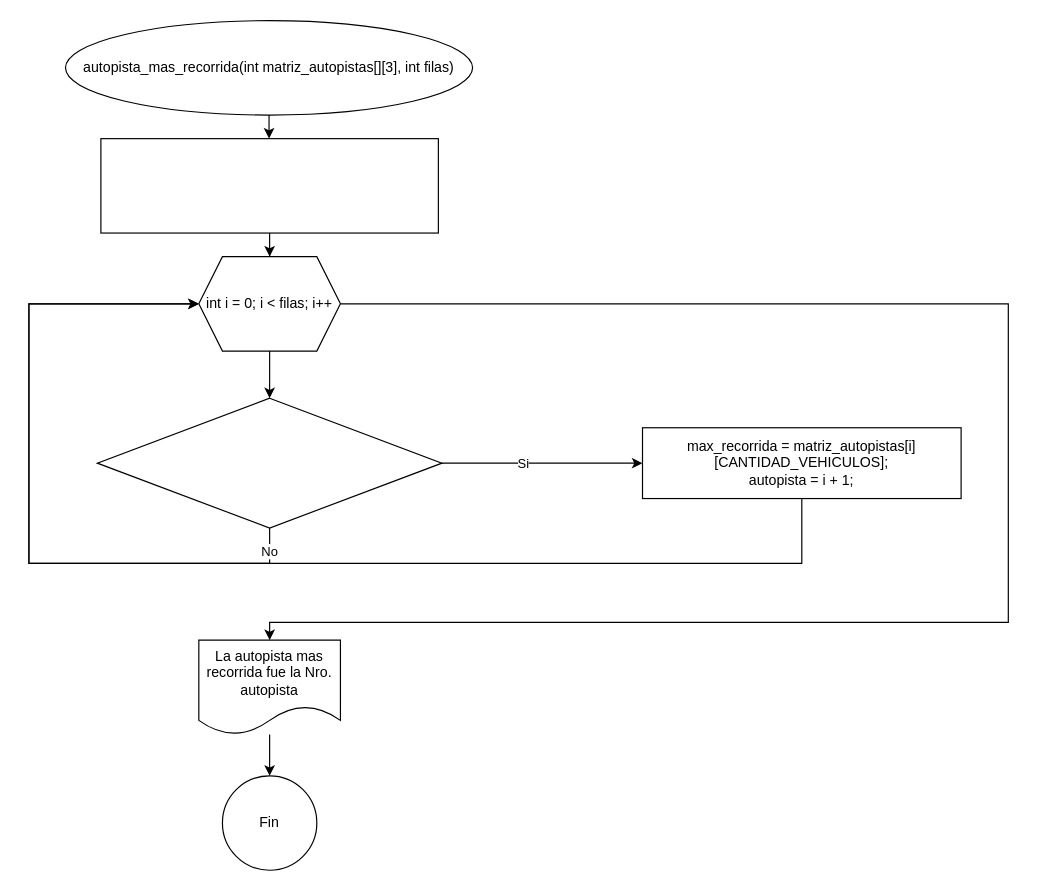
The diagram is 1038 pixels wide and 891 high, and some of its shapes have lost their labels. Each missing label, with the box of its shape:
int max_recorrida = 0; int autopista = 0;: (100, 137, 438, 233)
matriz_autopistas[i][CANTIDAD_VEHICULOS] > max_recorrida: (96, 397, 442, 528)
